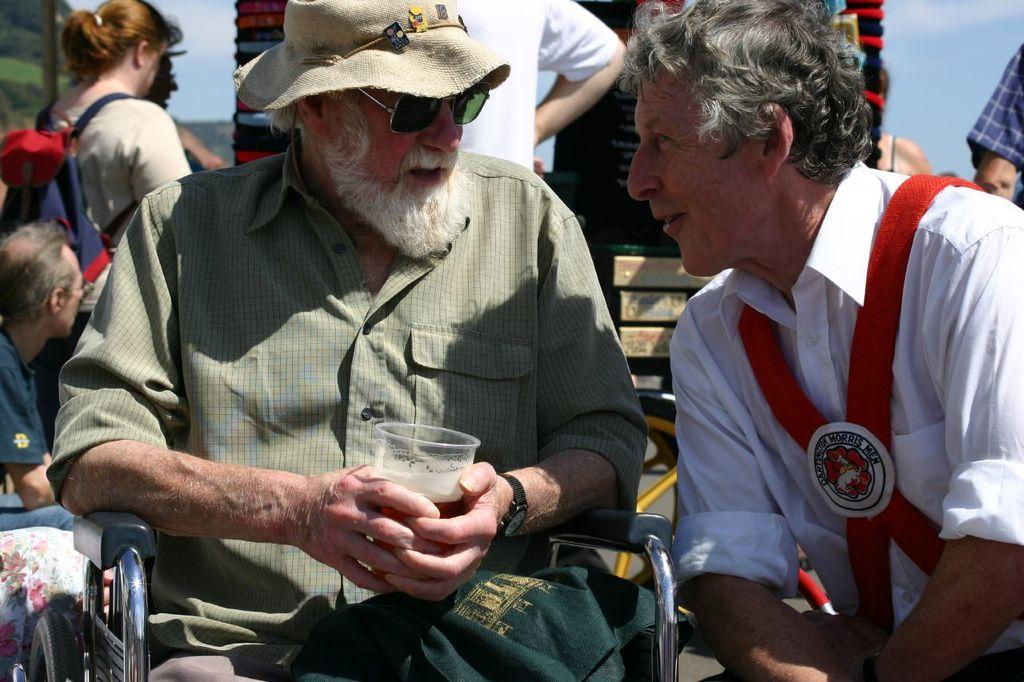Hat: (230, 0, 508, 113)
